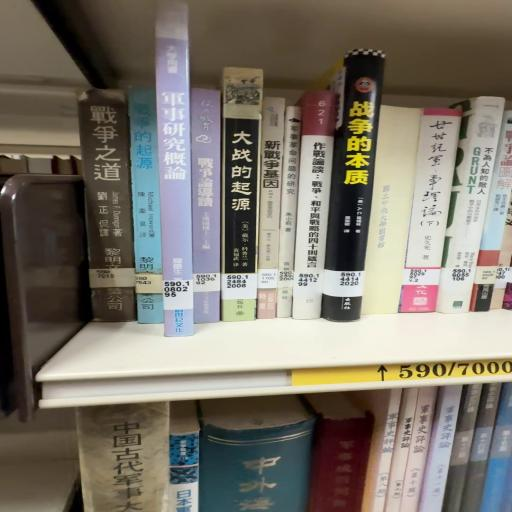backward: (363, 106, 423, 315)
book: (328, 49, 384, 313), (81, 89, 139, 327), (403, 107, 467, 316), (361, 109, 418, 317), (221, 64, 264, 322), (295, 94, 342, 324), (194, 90, 226, 332)
